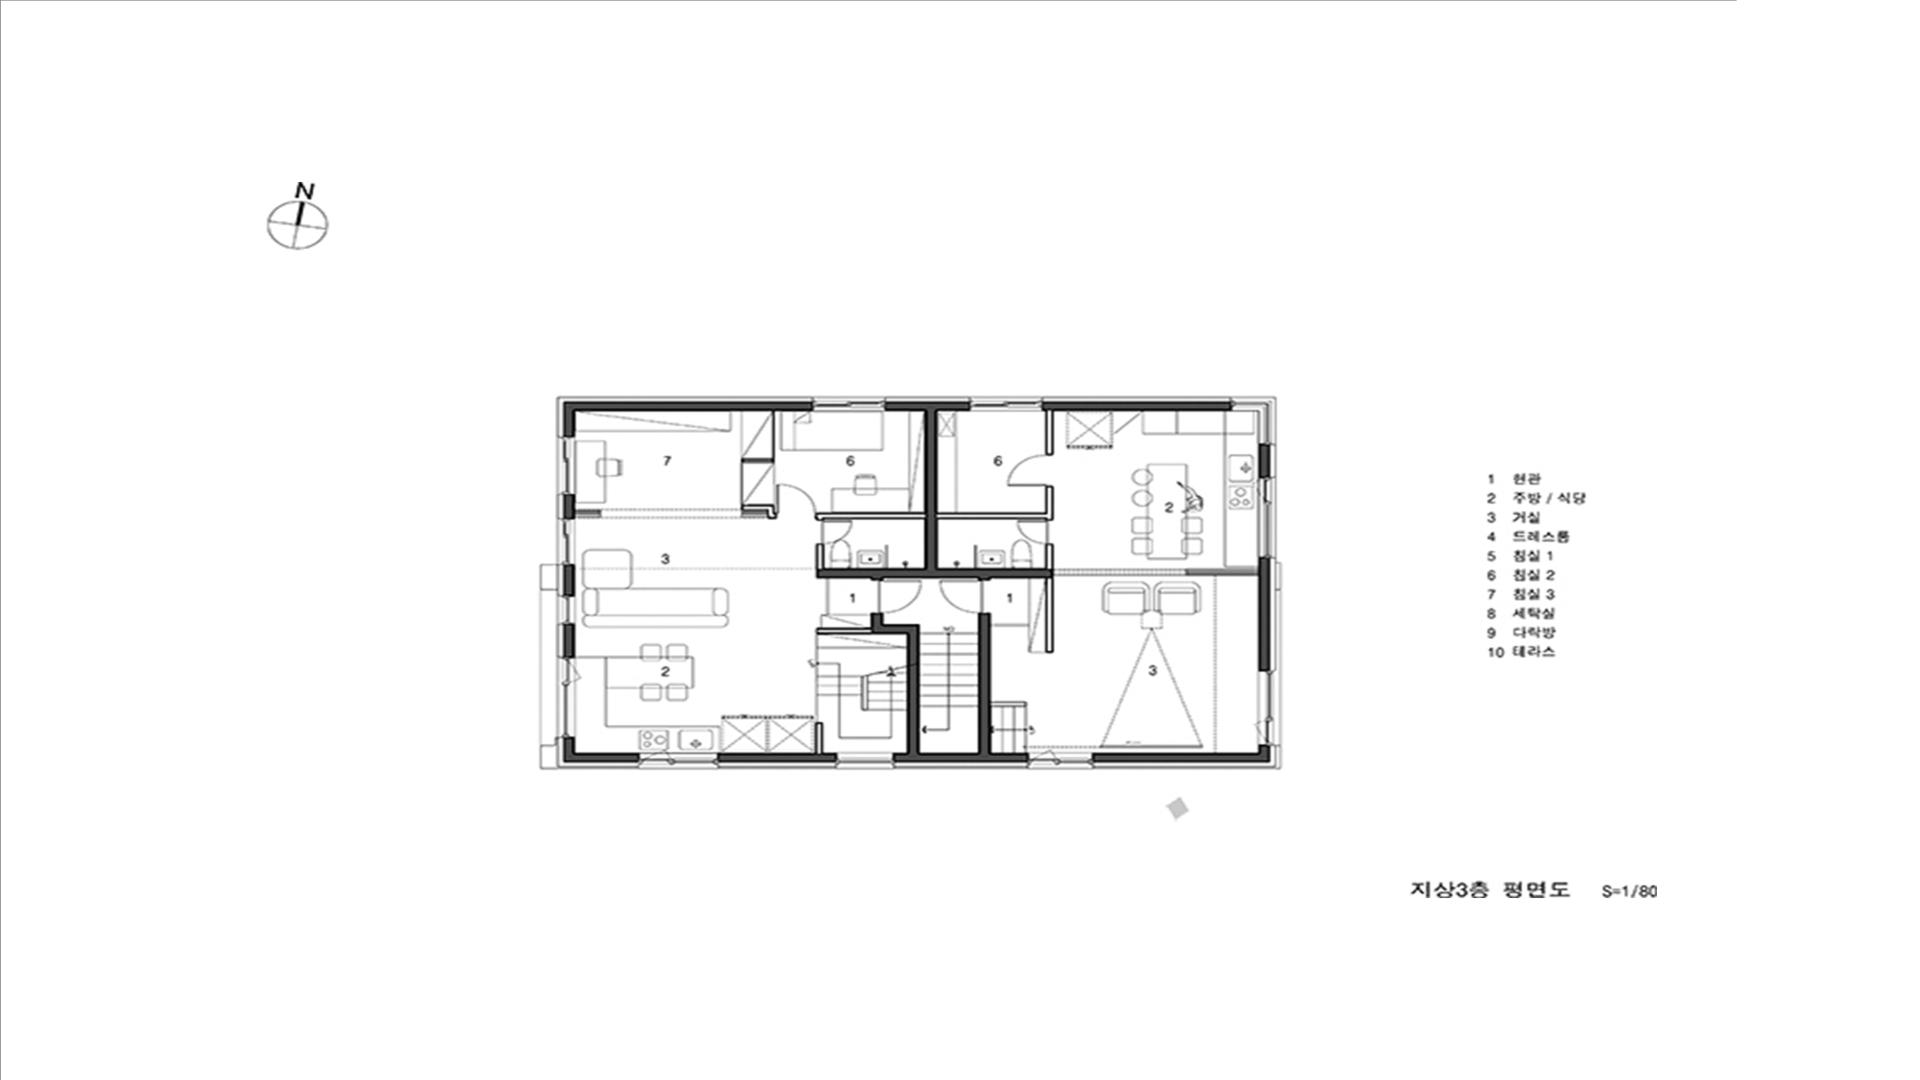door: (870, 579, 923, 613), (939, 579, 990, 613), (775, 484, 815, 520), (1007, 456, 1054, 487), (816, 520, 853, 543), (1015, 521, 1054, 543)
wall: (816, 568, 1054, 578), (576, 402, 812, 411), (924, 411, 938, 568), (978, 613, 992, 753), (1043, 402, 1232, 411), (1093, 753, 1258, 762), (907, 634, 919, 753), (1258, 558, 1270, 671), (893, 753, 1029, 762), (717, 753, 837, 762), (815, 512, 924, 520), (886, 402, 971, 411), (938, 513, 1046, 520), (1046, 578, 1054, 654), (575, 753, 640, 762), (741, 504, 775, 520), (1187, 568, 1258, 575), (884, 624, 920, 634), (1259, 443, 1270, 479), (816, 628, 872, 634), (564, 402, 575, 436), (564, 624, 575, 657), (1046, 411, 1054, 455), (564, 564, 575, 596), (1046, 485, 1054, 521), (814, 723, 823, 753), (564, 737, 575, 762), (564, 495, 575, 520), (872, 613, 884, 634), (575, 509, 601, 518), (741, 458, 775, 464), (1258, 745, 1270, 762), (1046, 543, 1054, 568), (816, 543, 824, 568), (992, 702, 1027, 707), (773, 411, 775, 458), (741, 464, 744, 504)
window: (1254, 671, 1282, 744), (556, 658, 582, 737), (640, 749, 717, 769), (1258, 479, 1276, 556), (1030, 749, 1092, 769), (556, 436, 575, 495), (814, 397, 886, 411), (971, 397, 1042, 411), (839, 753, 894, 769), (556, 520, 575, 564), (1232, 397, 1276, 411), (1258, 411, 1276, 443), (556, 596, 575, 624)
